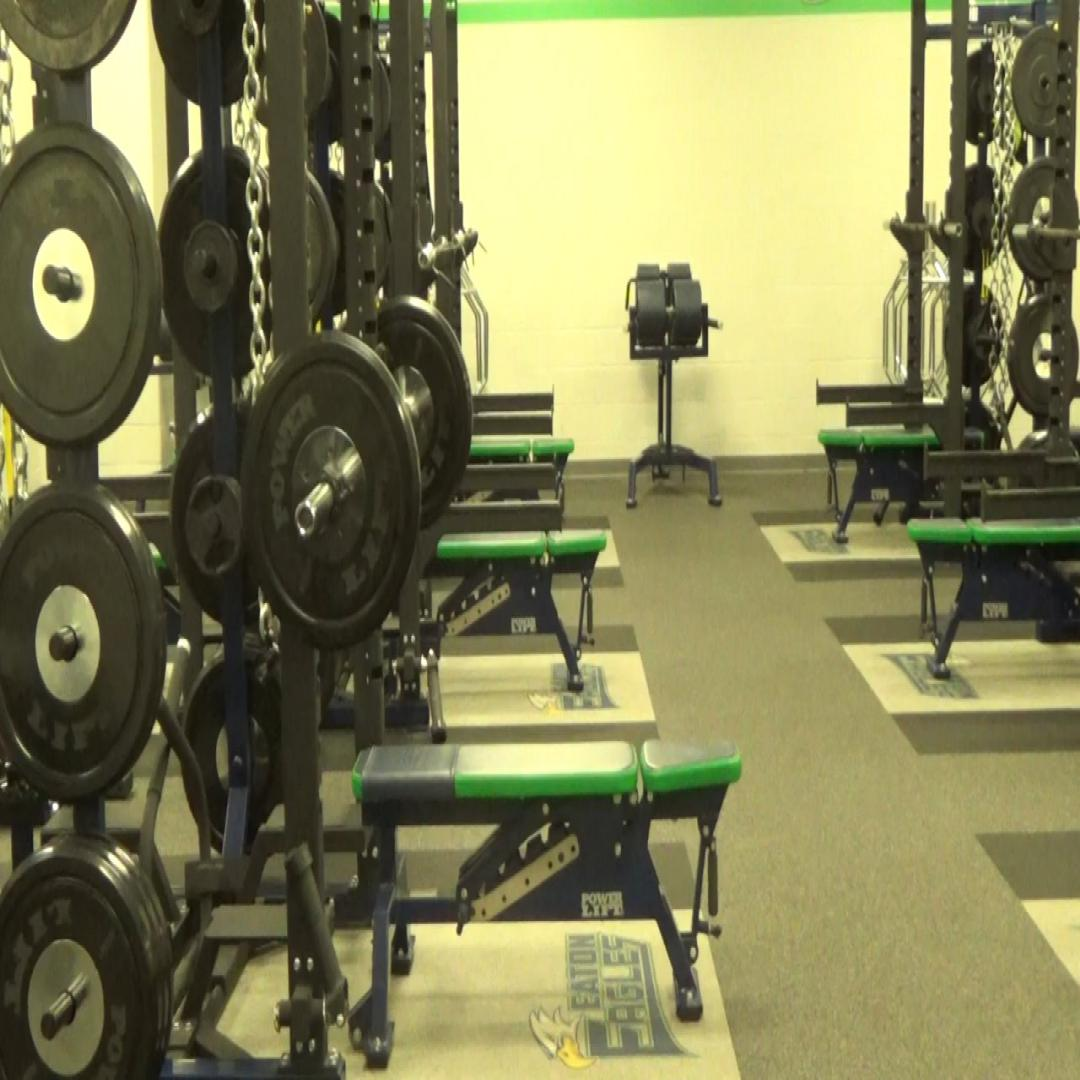Bar: (294, 500, 316, 540)
Barbell: (240, 330, 422, 651)
